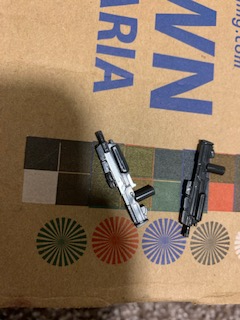rifle: (92, 129, 158, 231), (175, 136, 227, 240)
